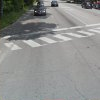crosswalk: (4, 27, 100, 50)
